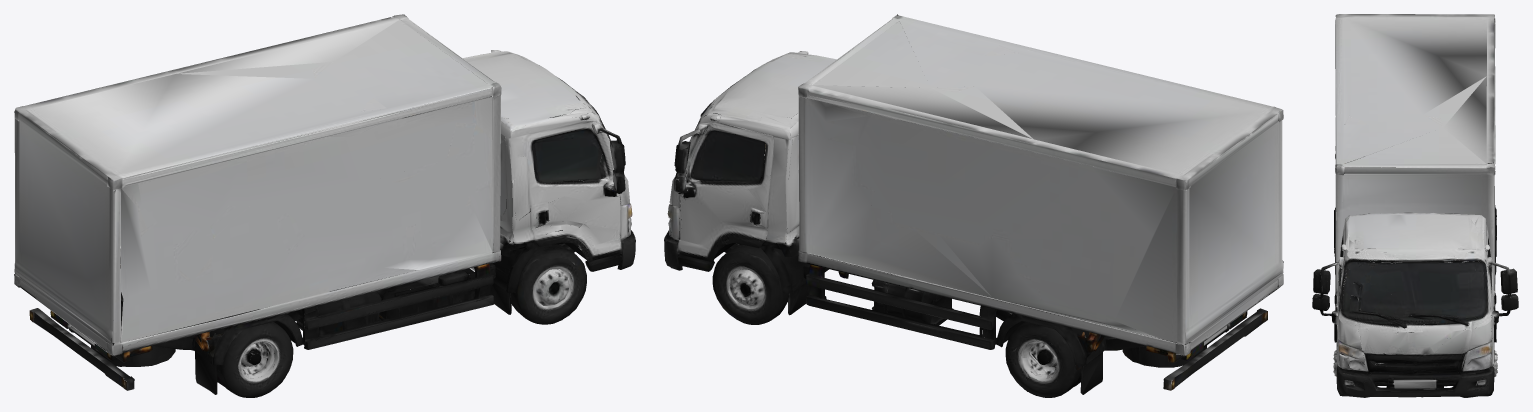
File: traffic_truck.glb
3 renders of one model, left to right at view 1: azimuth 30°, elevation 25°; view 2: azimuth 150°, elevation 25°; view 3: azimuth 270°, elevation 25°, orthographic. The views are drawn at different scales.
Parts seen in each view (by area): view 1: Body, Wheel_FR, Wheel_RR; view 2: Body, Wheel_FL, Wheel_RL; view 3: Body.
Boxes of the visible parts, x1,y1,x2,y2 form: Body: [14, 14, 635, 394]; Wheel_FR: [512, 247, 586, 324]; Wheel_RR: [217, 314, 297, 397]; Body: [664, 14, 1283, 394]; Wheel_FL: [712, 248, 786, 324]; Wheel_RL: [1000, 315, 1081, 397]; Body: [1312, 14, 1518, 397].
Bounding box in the file's own units: 0.9999 × 0.4565 × 0.4131.
Materials: 1 (1 with a texture image).
